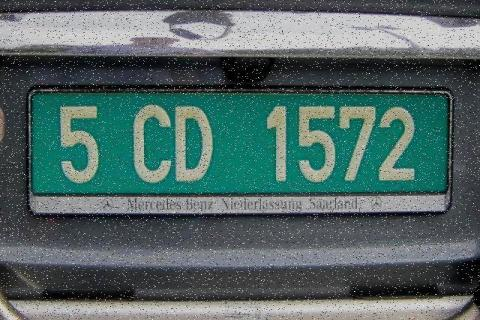LicensePlate: (26, 86, 454, 212)
